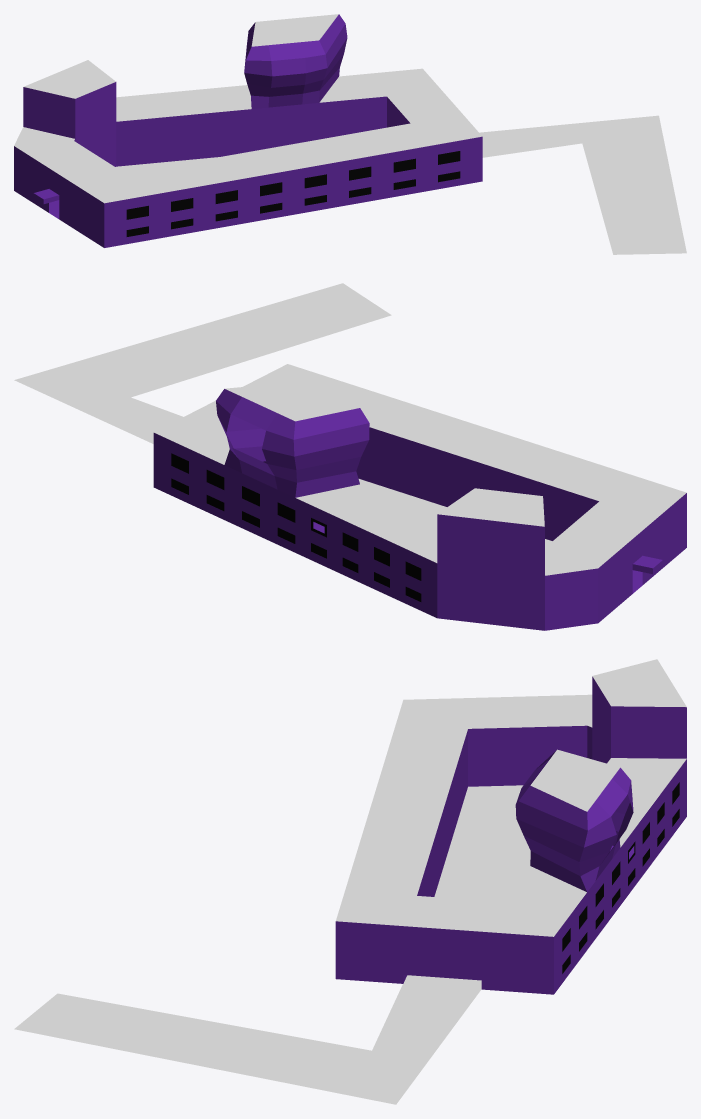
File: building.fbx
The picture shows the model from 3 angles, top to bottom: view 1: azimuth 30°, elevation 25°; view 2: azimuth 150°, elevation 25°; view 3: azimuth 270°, elevation 25°; orthographic projection. The views are drawn at different scales.
Visible parts, largest first — view 1: Difference Export, Water export; view 2: Difference Export, Water export; view 3: Difference Export, Water export.
Part boxes in pixels (<box>): Difference Export: <box>14,14,482,247</box>; Water export: <box>115,115,686,254</box>; Difference Export: <box>153,364,686,630</box>; Water export: <box>14,283,552,544</box>; Difference Export: <box>335,659,686,994</box>; Water export: <box>14,785,530,1104</box>.
Size of the model in its own units: 18447 by 23398 by 4182.
